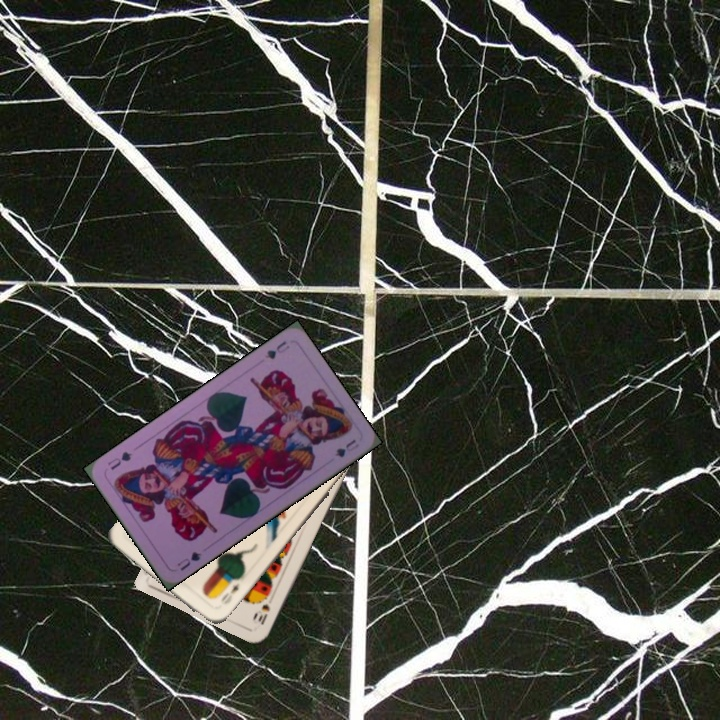EO: (217, 579, 242, 607)
GU: (173, 547, 204, 574), (261, 337, 292, 362)
S10: (254, 599, 272, 628)
